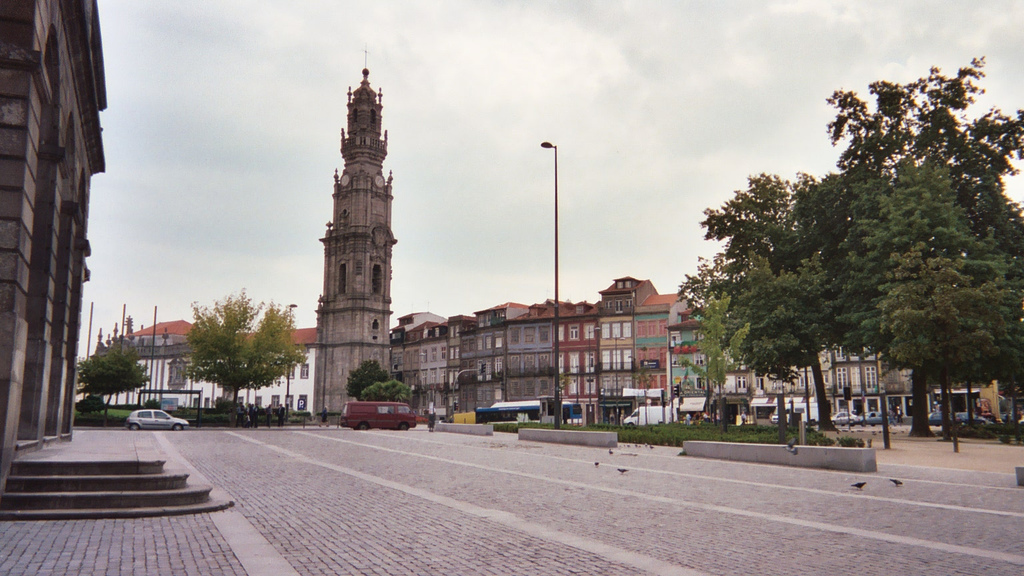clerigos: (315, 43, 401, 416)
